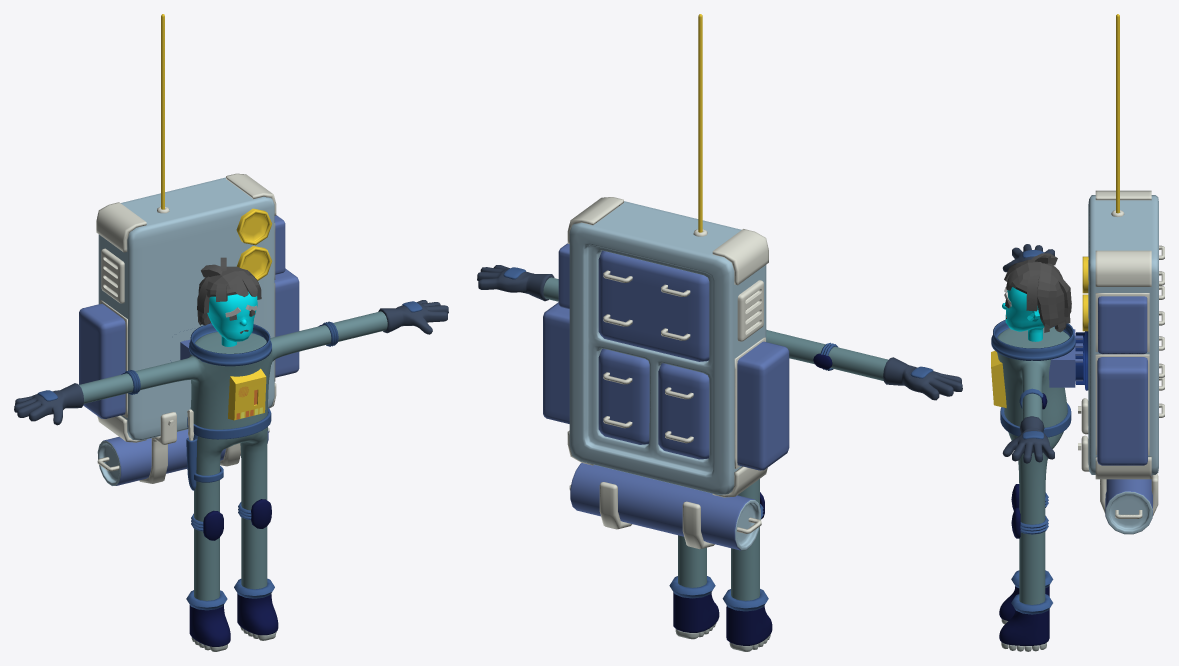
File: squire1.fbx
3 renders of one model, left to right at view 1: azimuth 30°, elevation 25°; view 2: azimuth 150°, elevation 25°; view 3: azimuth 270°, elevation 25°, orthographic. The views are drawn at different scales.
Parts seen in each view (by area): view 1: polySurface58, body, polySurface68, polySurface73, polySurface61, polySurface15, chest_pack, polySurface48, polySurface52, polySurface64, left_glove, pCube16 (+8 smaller); view 2: polySurface58, polySurface57, body, polySurface73, polySurface68, polySurface56, polySurface55, polySurface61, polySurface64, polySurface48, left_glove, polySurface67 (+5 smaller); view 3: body, polySurface58, polySurface61, polySurface60, pCube16, polySurface73, polySurface59, polySurface52, left_glove, polySurface15, pack_mount, polySurface71 (+12 smaller).
Part boxes in pixels (box(x1,y1,x2,y2)): polySurface58: box(98, 177, 274, 440); body: box(79, 311, 387, 646); polySurface68: box(79, 303, 125, 418); polySurface73: box(97, 429, 268, 485); polySurface61: box(274, 268, 299, 377); polySurface15: box(207, 292, 257, 346); chest_pack: box(228, 368, 266, 420); polySurface48: box(14, 383, 83, 425); polySurface52: box(189, 323, 271, 366); polySurface64: box(96, 202, 146, 252); left_glove: box(378, 300, 448, 334); pCube16: box(197, 266, 258, 325); polySurface58: box(569, 201, 766, 494); polySurface57: box(598, 250, 709, 361); body: box(543, 277, 888, 645); polySurface73: box(570, 463, 761, 550); polySurface68: box(737, 341, 789, 470); polySurface56: box(658, 363, 709, 459); polySurface55: box(598, 348, 649, 444); polySurface61: box(543, 302, 569, 423); polySurface64: box(712, 229, 768, 285); polySurface48: box(883, 357, 962, 400); left_glove: box(477, 265, 554, 301); polySurface67: box(737, 280, 763, 341); body: box(997, 327, 1069, 645); polySurface58: box(1088, 195, 1158, 474); polySurface61: box(1097, 357, 1147, 465); polySurface60: box(1098, 296, 1147, 354); pCube16: box(1004, 259, 1071, 332); polySurface73: box(1105, 475, 1152, 534); polySurface59: box(1095, 250, 1151, 286); polySurface52: box(991, 319, 1075, 360); left_glove: box(1002, 416, 1054, 463); polySurface15: box(1002, 287, 1044, 341); pack_mount: box(1049, 329, 1082, 387); polySurface71: box(1095, 456, 1151, 479).
Size of the model in its own units: 33.89 by 44.89 by 11.64.
